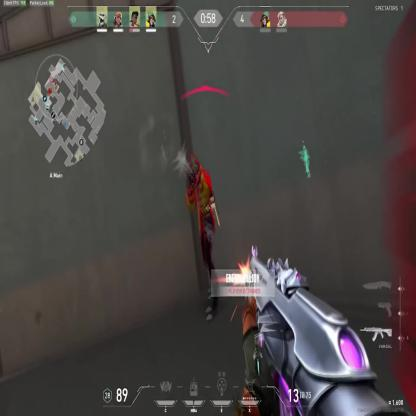enemy: (184, 156, 221, 321)
enemy_head: (189, 156, 199, 174)
